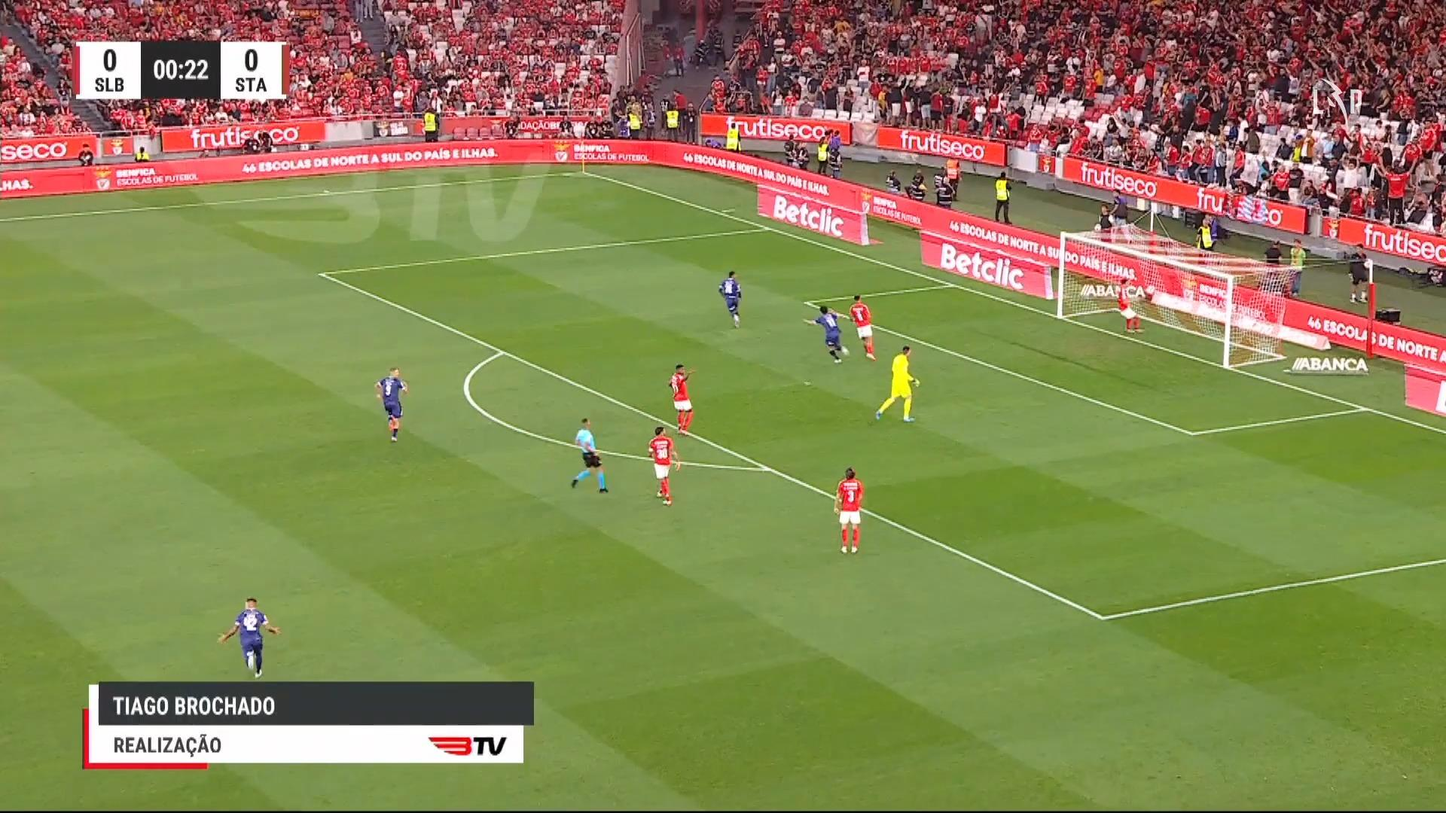goalkeeper: (874, 345, 920, 422)
player: (216, 596, 280, 679), (802, 304, 850, 364), (832, 467, 864, 554), (647, 425, 681, 506), (374, 367, 408, 442), (668, 363, 696, 435), (848, 294, 877, 361), (1115, 276, 1143, 333), (718, 270, 743, 329)
referee: (569, 416, 609, 494)
